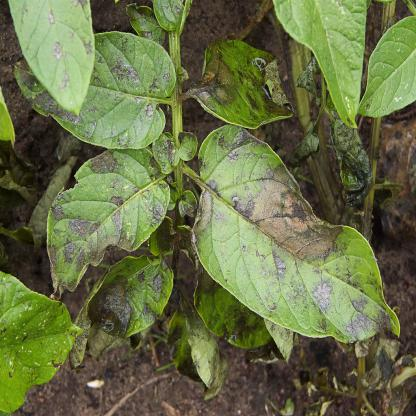Potato leaf early blight: (189, 121, 401, 354), (37, 146, 169, 287), (17, 32, 173, 150), (192, 35, 299, 133), (67, 261, 175, 354), (182, 307, 220, 387), (156, 132, 198, 167)
